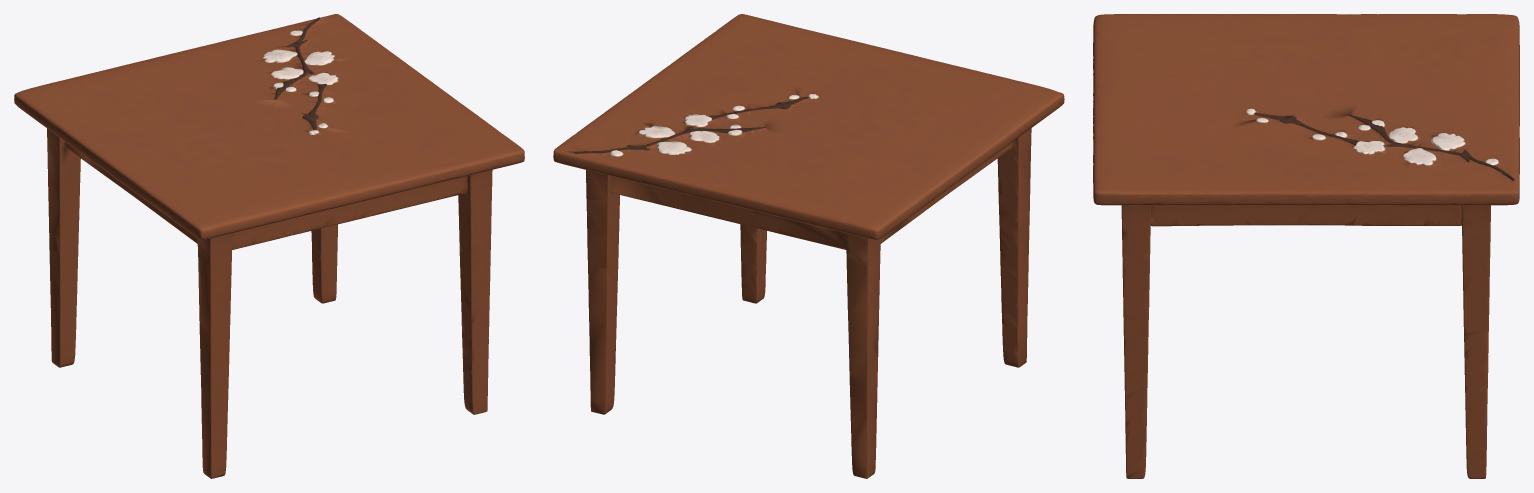
File: JP_사물_s2_table_4seat_old.glb
3 renders of one model, left to right at view 1: azimuth 30°, elevation 25°; view 2: azimuth 150°, elevation 25°; view 3: azimuth 270°, elevation 25°, orthographic. The views are drawn at different scales.
Parts seen in each view (by area): view 1: tripo_node_0582376c-1b7b-4212-b57d-b67440c953de; view 2: tripo_node_0582376c-1b7b-4212-b57d-b67440c953de; view 3: tripo_node_0582376c-1b7b-4212-b57d-b67440c953de.
Boxes of the visible parts, x1,y1,x2,y2 form: tripo_node_0582376c-1b7b-4212-b57d-b67440c953de: [14, 14, 524, 478]; tripo_node_0582376c-1b7b-4212-b57d-b67440c953de: [553, 14, 1064, 478]; tripo_node_0582376c-1b7b-4212-b57d-b67440c953de: [1093, 14, 1519, 478].
Bounding box in the file's own units: 0.9977 × 0.7844 × 0.9999.
Materials: 1 (1 with a texture image).
